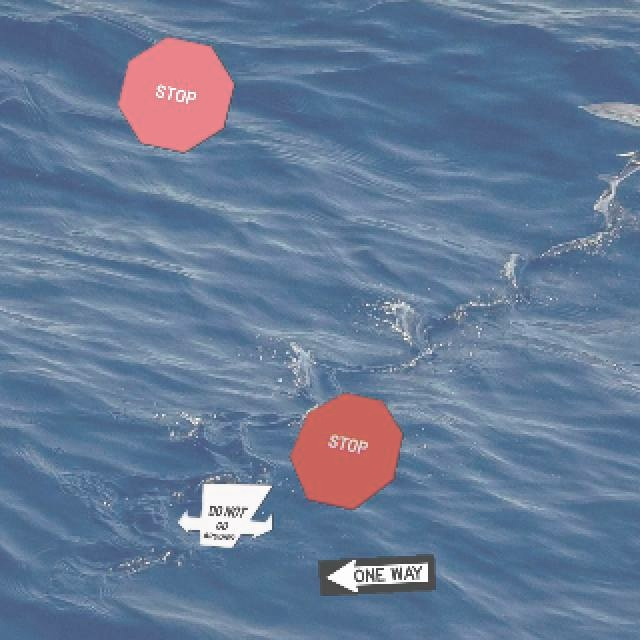DO_NOT_GO_AROUND: (176, 481, 274, 548)
ONE_WAY_ left: (317, 553, 436, 596)
STOP: (116, 35, 235, 153), (288, 391, 403, 510)
